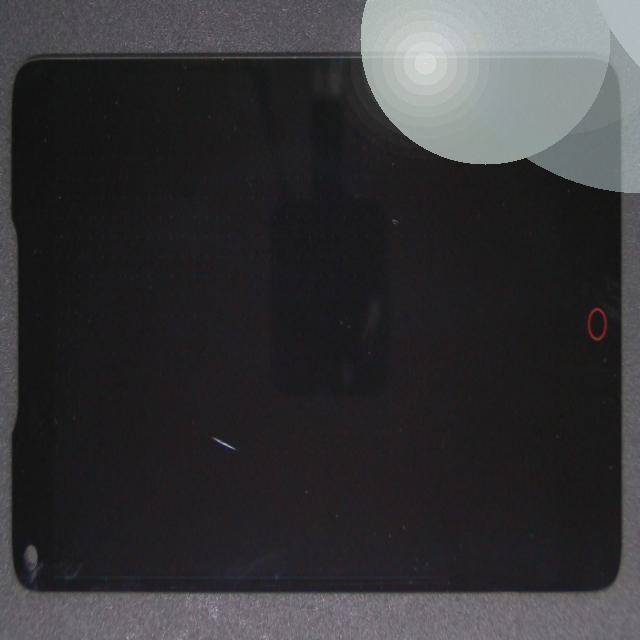scratch: (105, 176, 306, 640)
